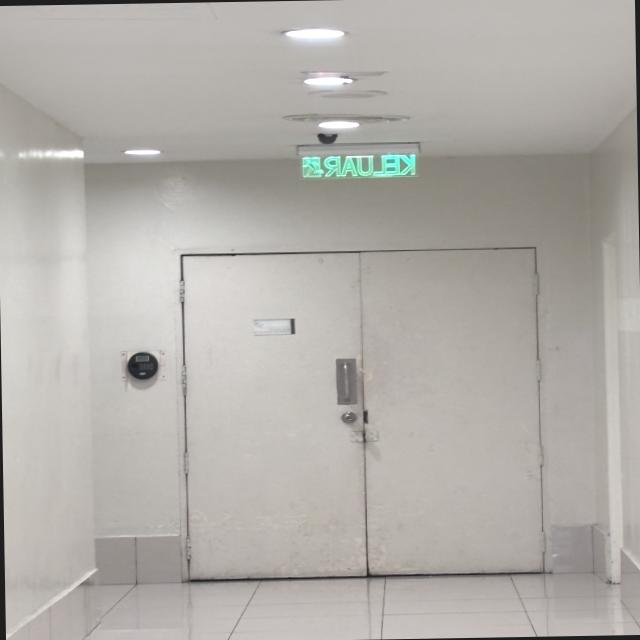door: (175, 244, 548, 583)
